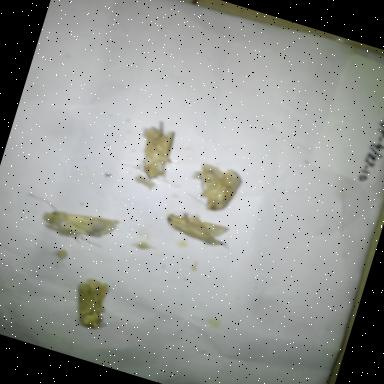abw: (12, 186, 124, 256), (122, 109, 202, 198), (156, 197, 240, 256), (181, 152, 254, 218), (59, 266, 124, 340)
